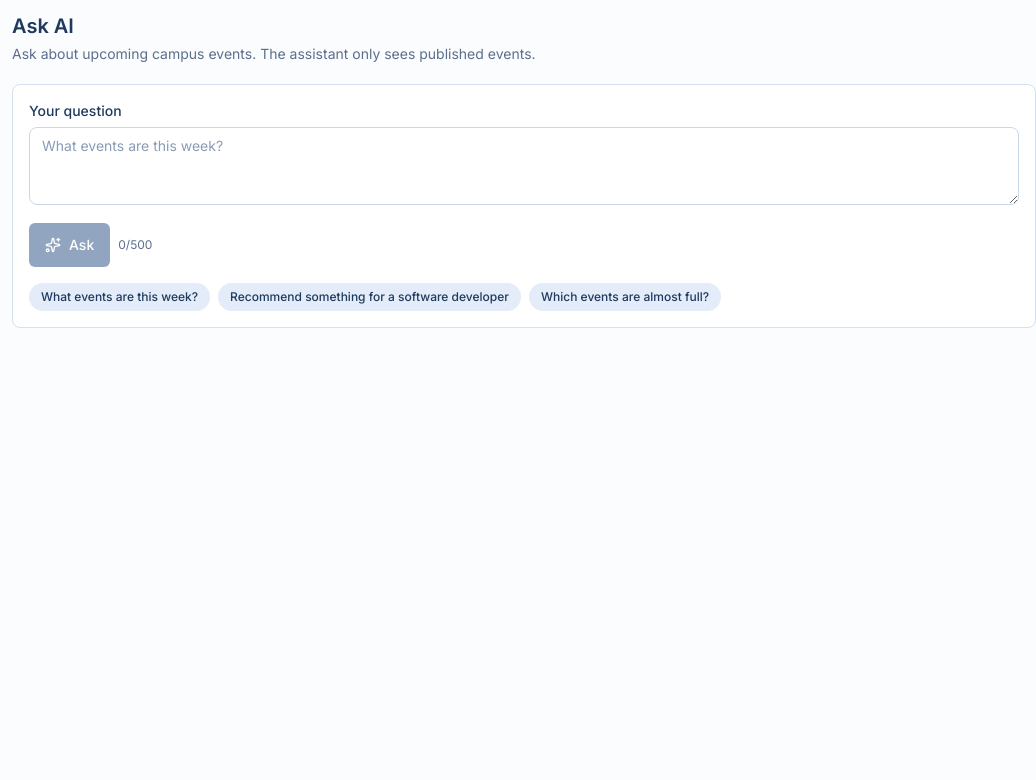
Test case: Ask AI assistant › shows the answer, recommended events, the AI label, and the token hint
Type "Any robotics events?" into the text box labelled "Your question".
click(524, 166); type("Any robotics events?")  # box x1=29 y1=127 x2=1019 y2=205
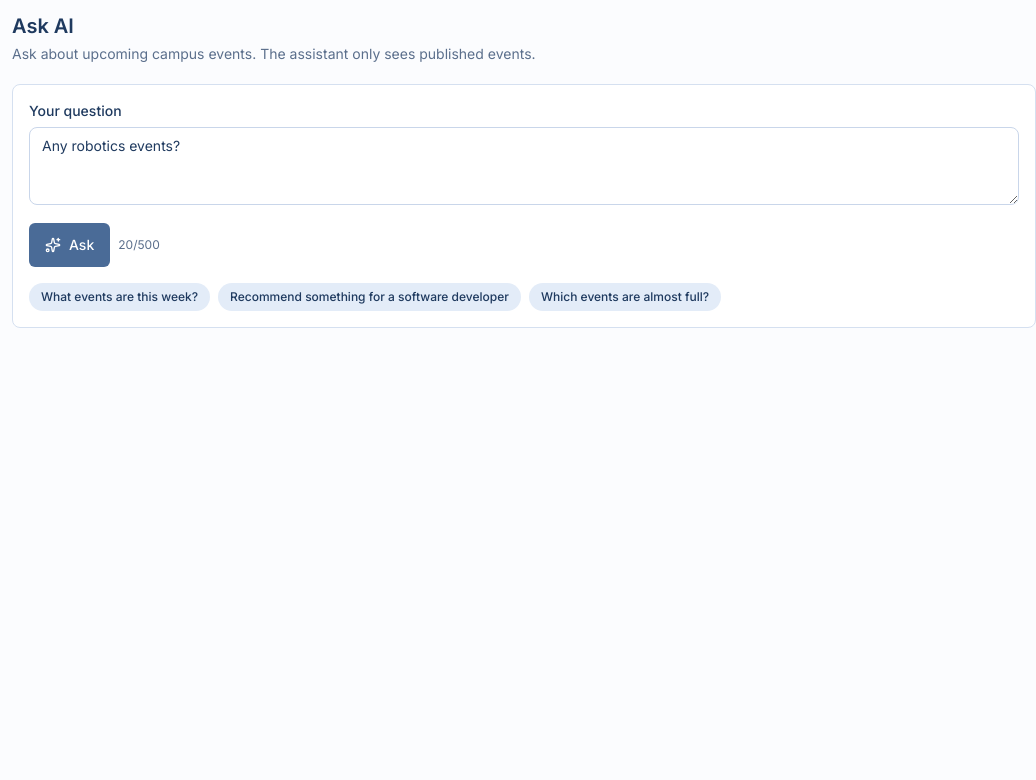
Click the button "Ask".
click(70, 245)  # box x1=29 y1=223 x2=110 y2=267
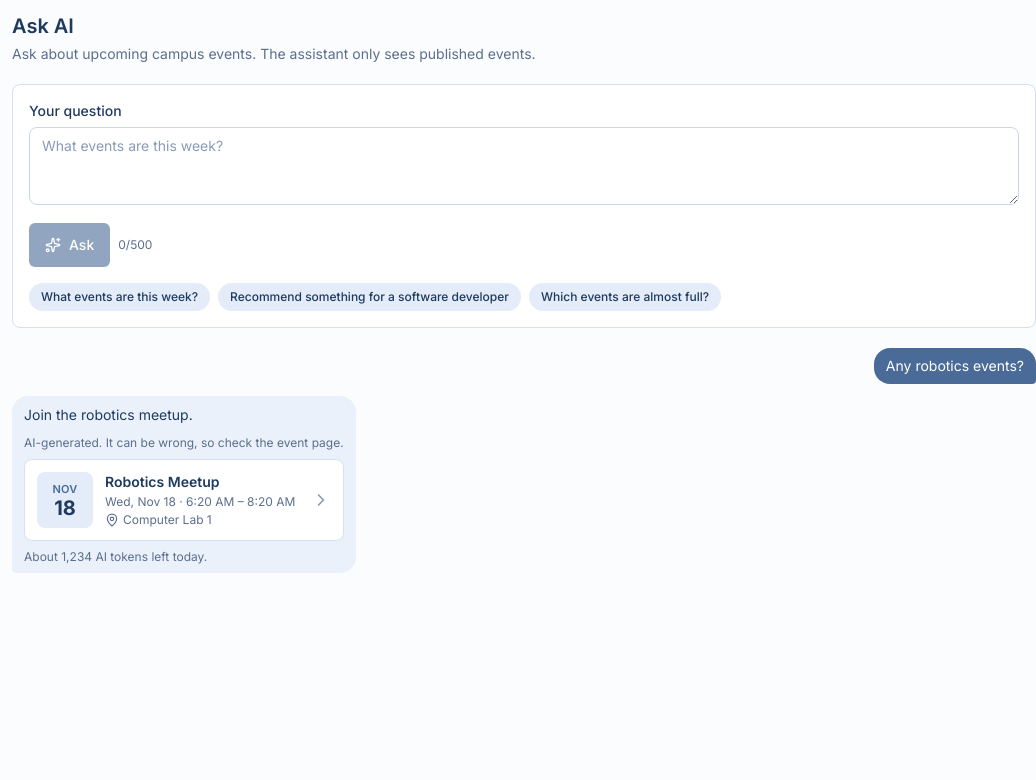
Expected: the text "Join the robotics meetup." is shown, x1=24 y1=406 x2=193 y2=423
Expected: the text "AI-generated. It can be wrong, so check the event page." is shown, x1=24 y1=435 x2=344 y2=451
Expected: the heading "Robotics Meetup" is shown, x1=105 y1=473 x2=220 y2=490
